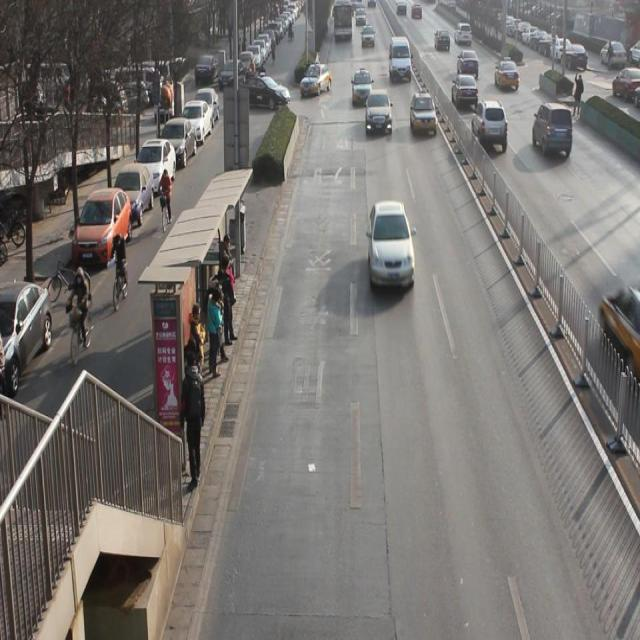car: (364, 200, 418, 294), (533, 100, 575, 162), (472, 101, 508, 154), (365, 90, 394, 135), (408, 94, 437, 138), (305, 60, 330, 99), (351, 68, 374, 106), (452, 74, 479, 105), (496, 58, 518, 93), (459, 50, 480, 74), (434, 27, 451, 51), (456, 22, 473, 46), (360, 24, 376, 49)
truck: (388, 37, 414, 86)
